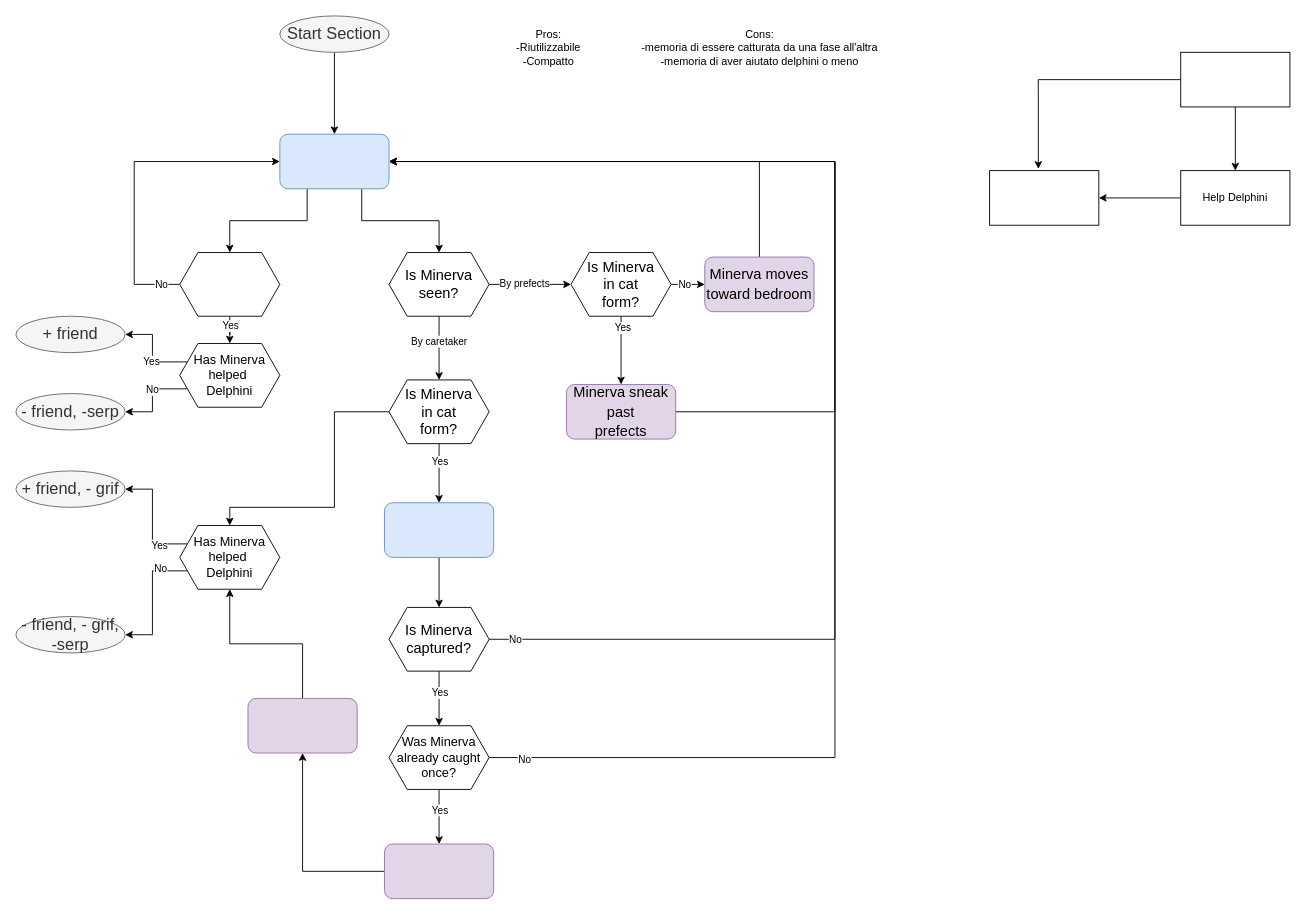
This 1306x915 diagram has some shape labels left out. Each missing label, with the centre of its shape:
"Escape the angry caretaker" goes at (x=439, y=529).
"First part" goes at (x=1235, y=79).
"Has Minerva reached her dorm?" goes at (x=229, y=284).
"Minerva escorted" goes at (x=302, y=725).
"Minerva turns to human form" goes at (x=439, y=871).
"Reach Dorm (this graph)" goes at (x=1044, y=197).
"Sneak past guards unseen" goes at (x=334, y=161).
